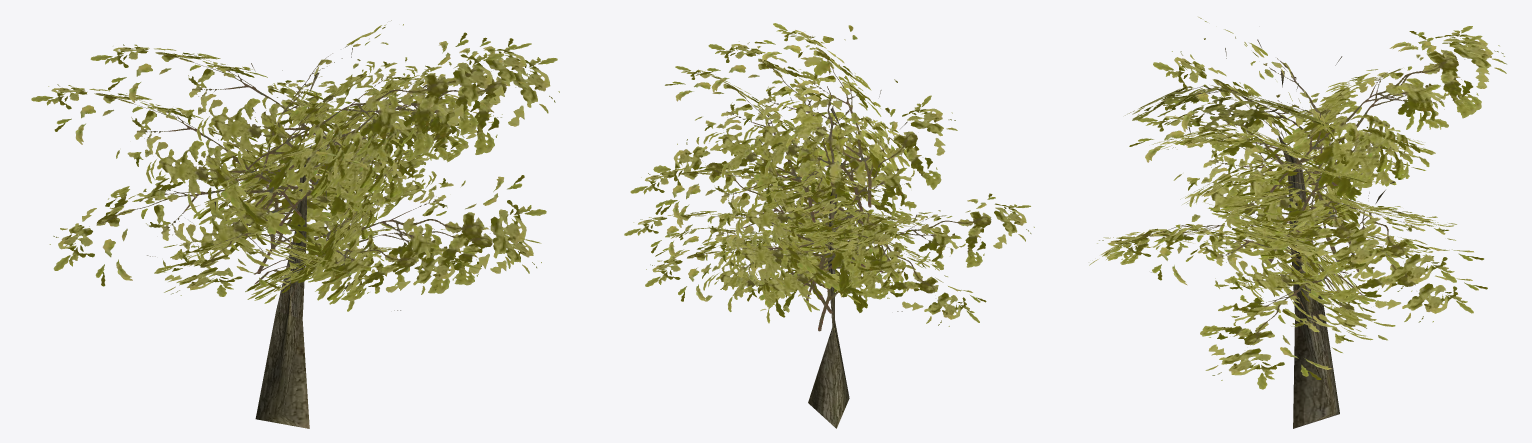
The picture shows the model from 3 angles, left to right: view 1: azimuth 30°, elevation 25°; view 2: azimuth 150°, elevation 25°; view 3: azimuth 270°, elevation 25°; orthographic projection. The views are drawn at different scales.
Visible parts, largest first — view 1: treelarge; view 2: treelarge; view 3: treelarge.
Part boxes in pixels (x1,y1,x2,y2): treelarge: [31, 20, 559, 428]; treelarge: [624, 23, 1034, 428]; treelarge: [1089, 17, 1506, 428].
Bounding box in the file's own units: 13.73 × 12.19 × 11.31.
Materials: 1 (1 with a texture image).
